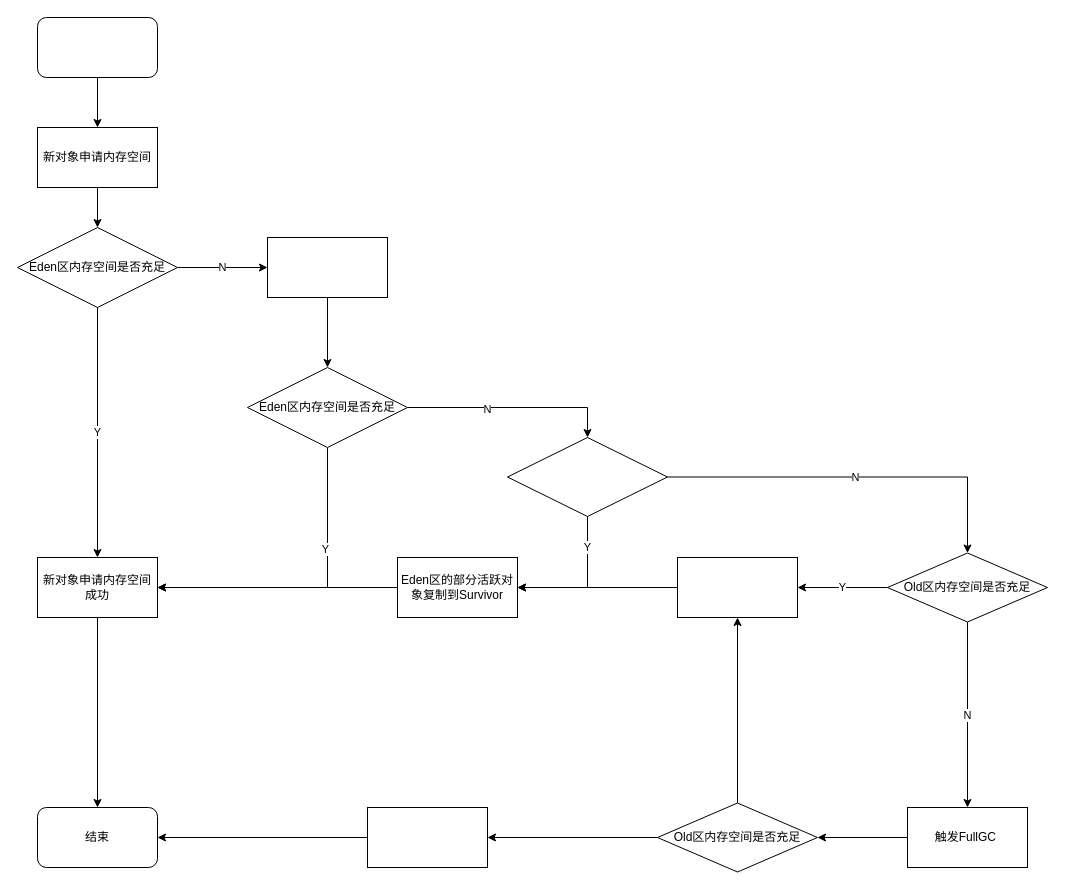
This 1065x890 diagram has some shape labels left out. Here are the shapes that lost their labels. From the top down, the centre of each, then its label:
the point at 97,47: 开始
the point at 327,267: 触发MinorGC，回收垃圾
the point at 587,476: Survivor区内存空间是否充足
the point at 737,587: Survivor区的部分活跃对象复制到Old区
the point at 427,837: OutofMemoryError
